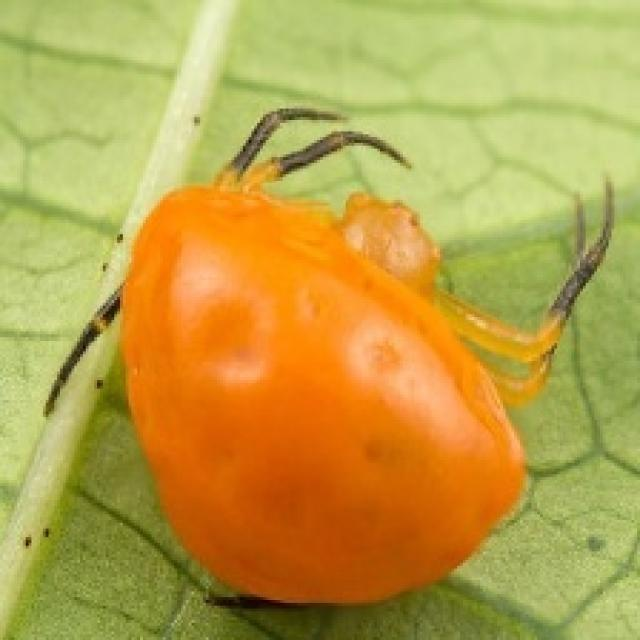Non venomous spider: (61, 115, 635, 632)
